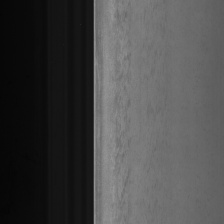silk_spot: (111, 14, 133, 197)
